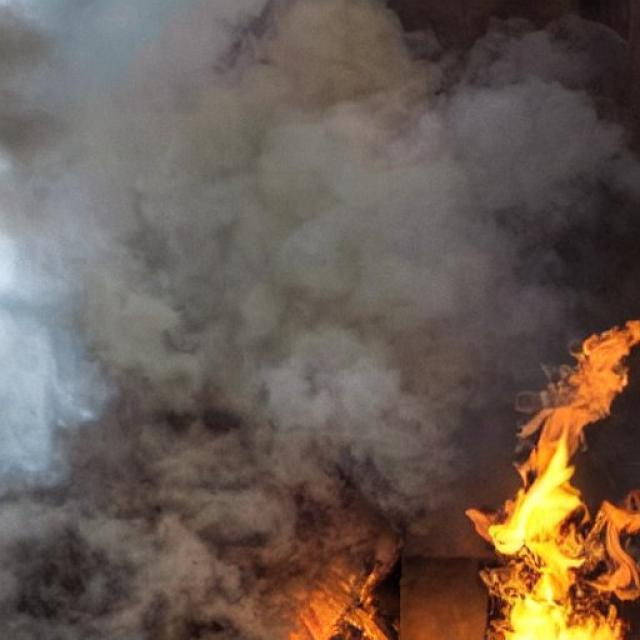Fire: (447, 296, 640, 640), (250, 556, 416, 640)
Smoke: (0, 9, 510, 584)
